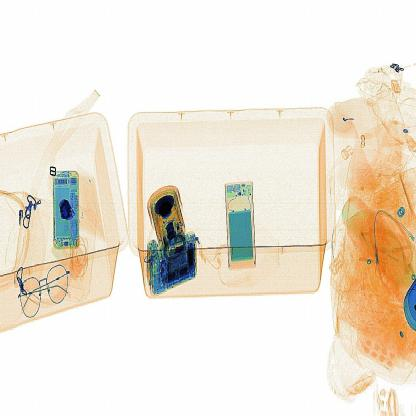scissors: (54, 193, 80, 226)
